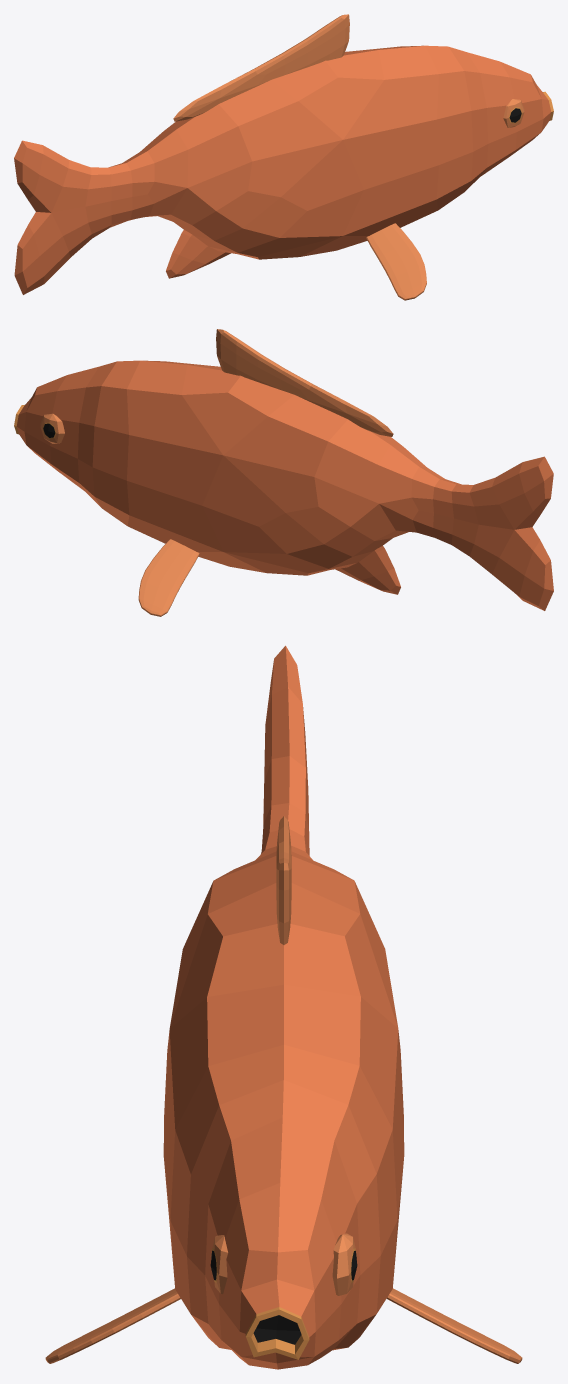
The model's file is scene_xOtduAyt37.glb.
3 renders of one model, top to bottom at view 1: azimuth 30°, elevation 25°; view 2: azimuth 150°, elevation 25°; view 3: azimuth 270°, elevation 25°, orthographic. The views are drawn at different scales.
Visible parts, largest first — view 1: Fish; view 2: Fish; view 3: Fish.
Part boxes in pixels (x1,y1,x2,y2): Fish: [14, 14, 553, 300]; Fish: [14, 329, 553, 616]; Fish: [45, 645, 522, 1369].
Bounding box in the file's own units: 1.64 × 0.7244 × 0.6389.
